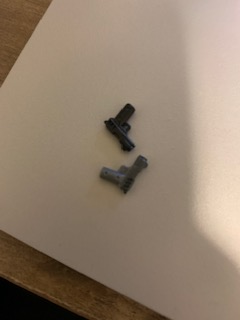pistol: (99, 154, 148, 195), (103, 103, 137, 153)
